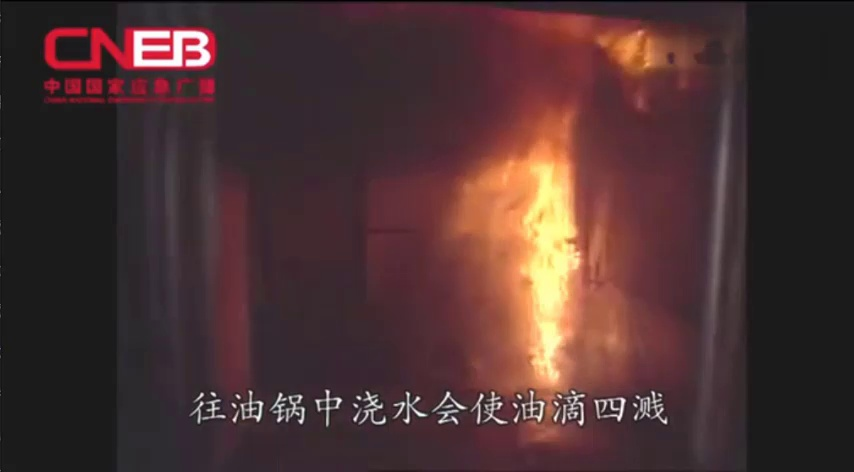fire: (458, 67, 608, 398)
